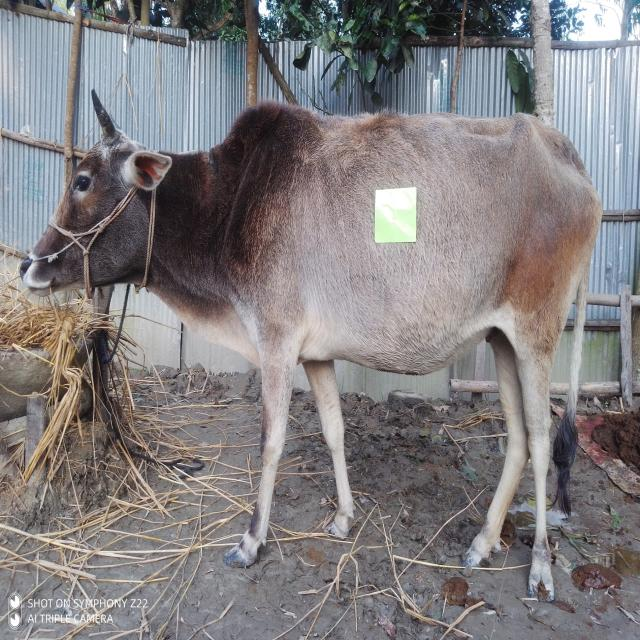badan_sapi: (254, 112, 570, 379)
sapi: (15, 76, 610, 608)
